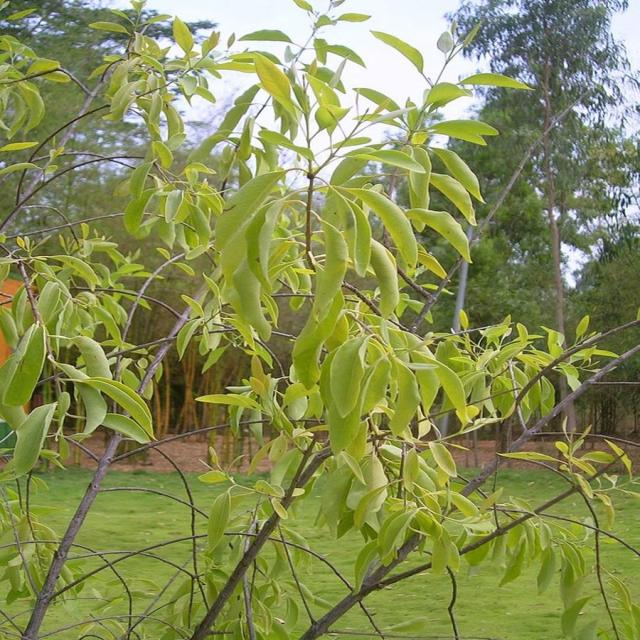Medicinal-Sandalwood: (0, 12, 640, 640)
